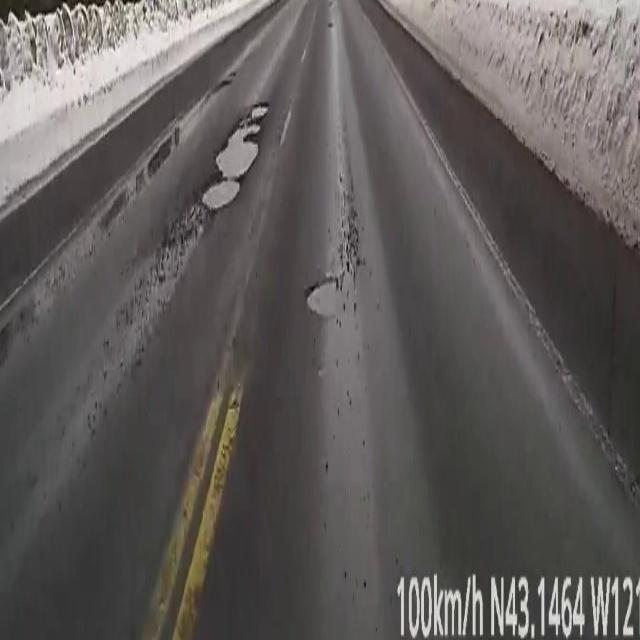pothole: (202, 104, 266, 210), (308, 274, 340, 319)
